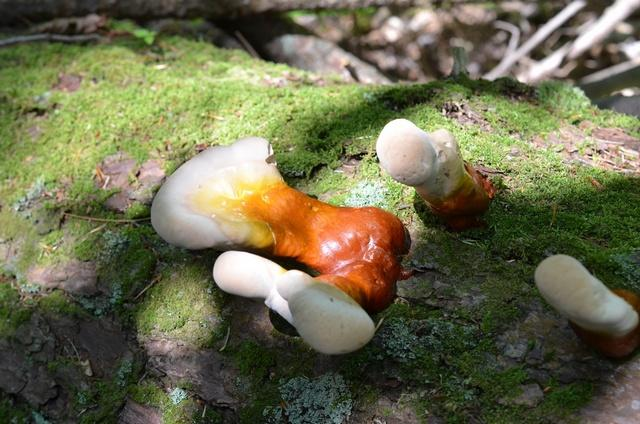poisonous_mushroom: (149, 134, 412, 355), (374, 116, 495, 227), (521, 248, 640, 345)
